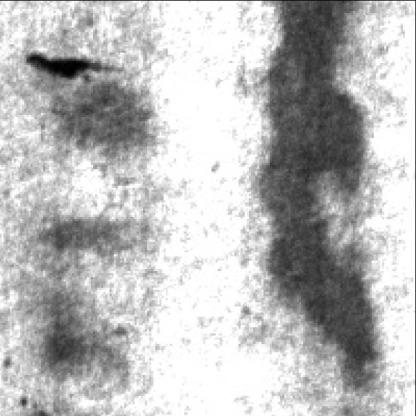patches: (256, 5, 389, 400), (43, 71, 164, 160), (42, 297, 118, 385)
